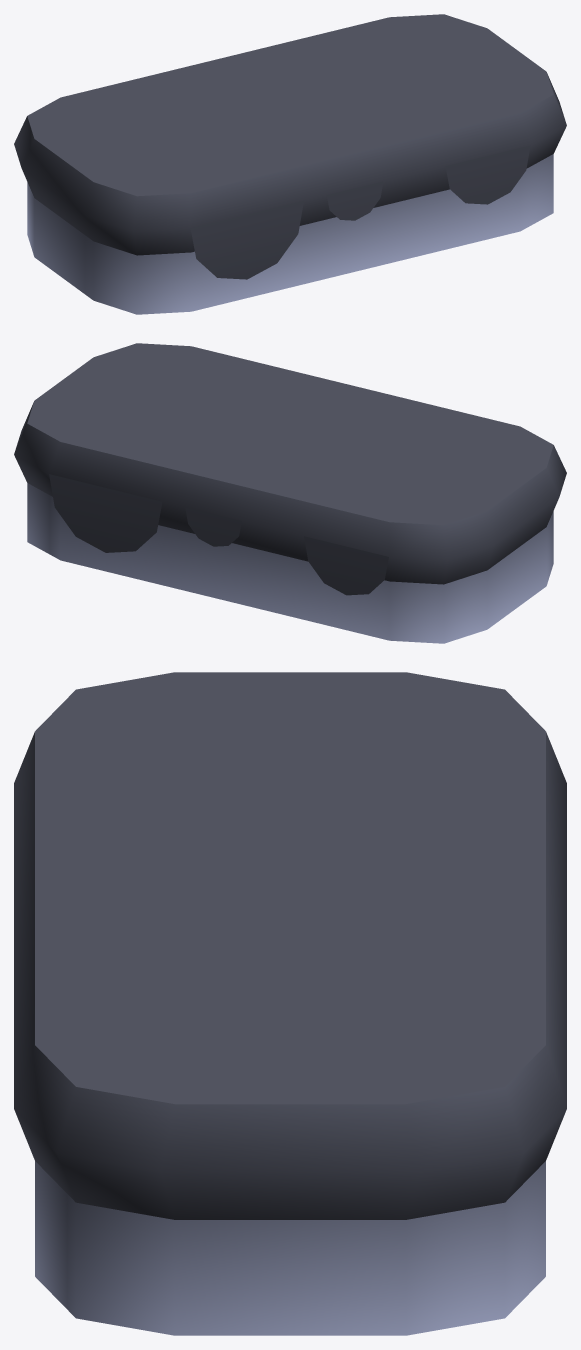
Rendered from block-snow-overhang-low-long.glb.
3 views of the same model, one above another, from view 1: azimuth 30°, elevation 25°; view 2: azimuth 150°, elevation 25°; view 3: azimuth 270°, elevation 25° (orthographic). The views are drawn at different scales.
Visible parts, largest first — view 1: block-snow-overhang-low-long; view 2: block-snow-overhang-low-long; view 3: block-snow-overhang-low-long.
Part boxes in pixels (x1=…): block-snow-overhang-low-long: x1=14, y1=14, x2=566, y2=314; block-snow-overhang-low-long: x1=14, y1=343, x2=566, y2=643; block-snow-overhang-low-long: x1=14, y1=672, x2=566, y2=1335.
Bounding box in the file's own units: 2.08 × 0.5 × 1.08.
